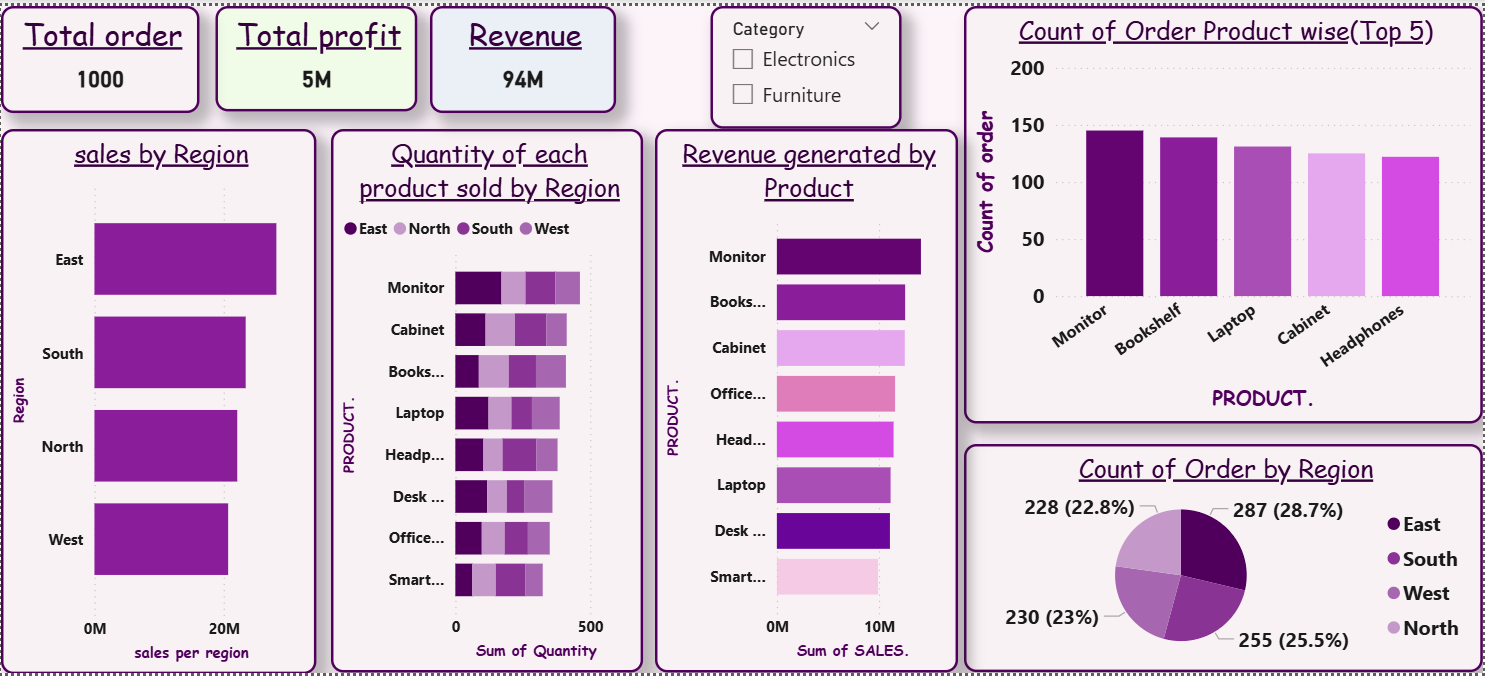

What the dashboard file says about the page in this screenshot:
{"tool":"powerbi","page":{"name":"Orders pattern","canvas":[1200,540],"ordinal":0},"visuals":[{"type":"pieChart","title":"Count of Order by Region","fields":{"Category":["SalesData_1000Rows_WithIssues_copy.Region"],"Y":["CountNonNull(SalesData_1000Rows_WithIssues_copy.OrderID)"]},"box":[779.3,354.9,420.2,184.5],"z":0},{"type":"clusteredColumnChart","title":"Count of Order Product wise(Top 5)","fields":{"Category":["SalesData_1000Rows_WithIssues_copy.PRODUCT."],"Y":["CountNonNull(SalesData_1000Rows_WithIssues_copy.OrderID)"]},"box":[779.3,0,420.2,337.9],"z":1000},{"type":"card","title":"Total profit","fields":{"Values":["SalesData_1000Rows_WithIssues_copy.Total profit"]},"box":[173.2,0,163.3,85.2],"z":2000},{"type":"card","title":"Total order","fields":{"Values":["East region orders.Total orders"]},"box":[0,0,160.4,86.6],"z":3000},{"type":"clusteredBarChart","title":"sales by Region","fields":{"Y":["SalesData_1000Rows_WithIssues_copy.sales_region"],"Category":["SalesData_1000Rows_WithIssues_copy.Region"]},"box":[0,99.4,255.5,441.5],"z":4000},{"type":"slicer","fields":{"Values":["SalesData_1000Rows_WithIssues_copy.Category"]},"box":[574.9,0,154.7,99.4],"z":5000},{"type":"barChart","title":"Quantity of each product  sold by Region","fields":{"Category":["SalesData_1000Rows_WithIssues_copy.PRODUCT."],"Series":["SalesData_1000Rows_WithIssues_copy.Region"],"Y":["Sum(SalesData_1000Rows_WithIssues_copy.Quantity)"]},"box":[266.9,99.4,252.7,440.1],"z":6000},{"type":"card","title":"Revenue","fields":{"Values":["Sum(SalesData_1000Rows_WithIssues_copy.SALES.)"]},"box":[347.8,0,150.5,86.6],"z":7000},{"type":"clusteredBarChart","title":"Revenue generated by Product","fields":{"Y":["Sum(SalesData_1000Rows_WithIssues_copy.SALES.)"],"Category":["SalesData_1000Rows_WithIssues_copy.PRODUCT."]},"box":[529.5,99.4,245.6,440.1],"z":8000}]}

Visuals, with their boxes in screenshot pixels (x1, y1, x2, y2), scaled from the page's 1200x540 canvas onto the 1485x677 screenshot:
"Count of Order by Region" pieChart: region(964, 445, 1484, 676)
"Count of Order Product wise(Top 5)" clusteredColumnChart: region(964, 0, 1484, 424)
"Total profit" card: region(214, 0, 416, 107)
"Total order" card: region(0, 0, 198, 109)
"sales by Region" clusteredBarChart: region(0, 125, 316, 676)
slicer - SalesData_1000Rows_WithIssues_copy.Category: region(711, 0, 903, 125)
"Quantity of each product  sold by Region" barChart: region(330, 125, 643, 676)
"Revenue" card: region(430, 0, 617, 109)
"Revenue generated by Product" clusteredBarChart: region(655, 125, 959, 676)
